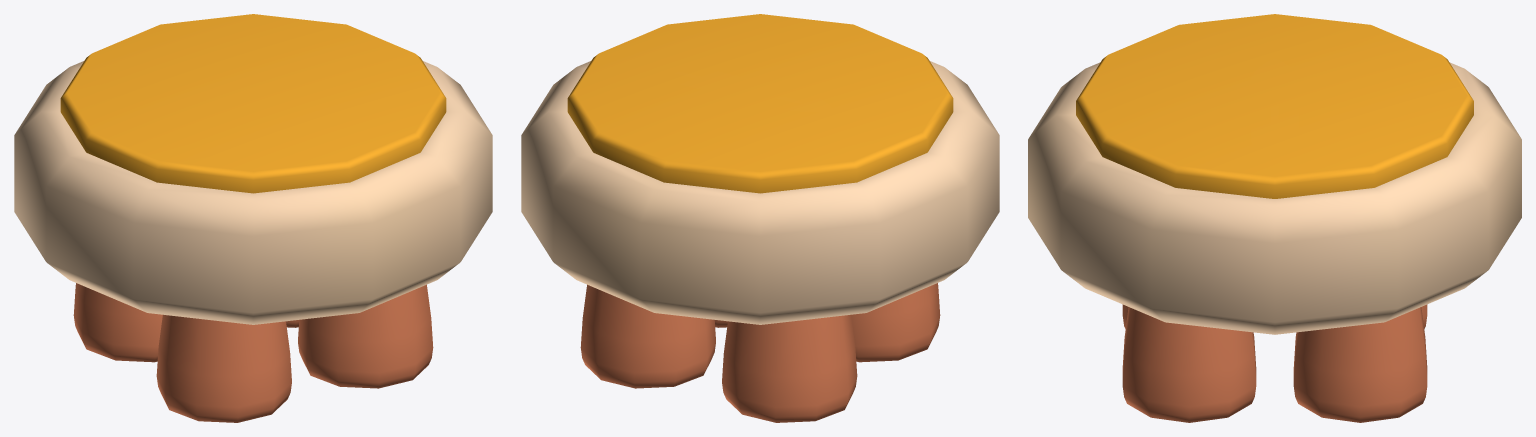
The model's file is Decor_Ghenho_01.fbx.
3 views of the same model, side by side, from view 1: azimuth 30°, elevation 25°; view 2: azimuth 150°, elevation 25°; view 3: azimuth 270°, elevation 25° (orthographic). The views are drawn at different scales.
Parts seen in each view (by area): view 1: Decor_Ghenho_01; view 2: Decor_Ghenho_01; view 3: Decor_Ghenho_01.
Part boxes in pixels (x1,y1,x2,y2): Decor_Ghenho_01: (14,14,492,422); Decor_Ghenho_01: (521,14,999,422); Decor_Ghenho_01: (1028,14,1521,422).
Bounding box in the file's own units: 63.44 × 37.92 × 63.44.
